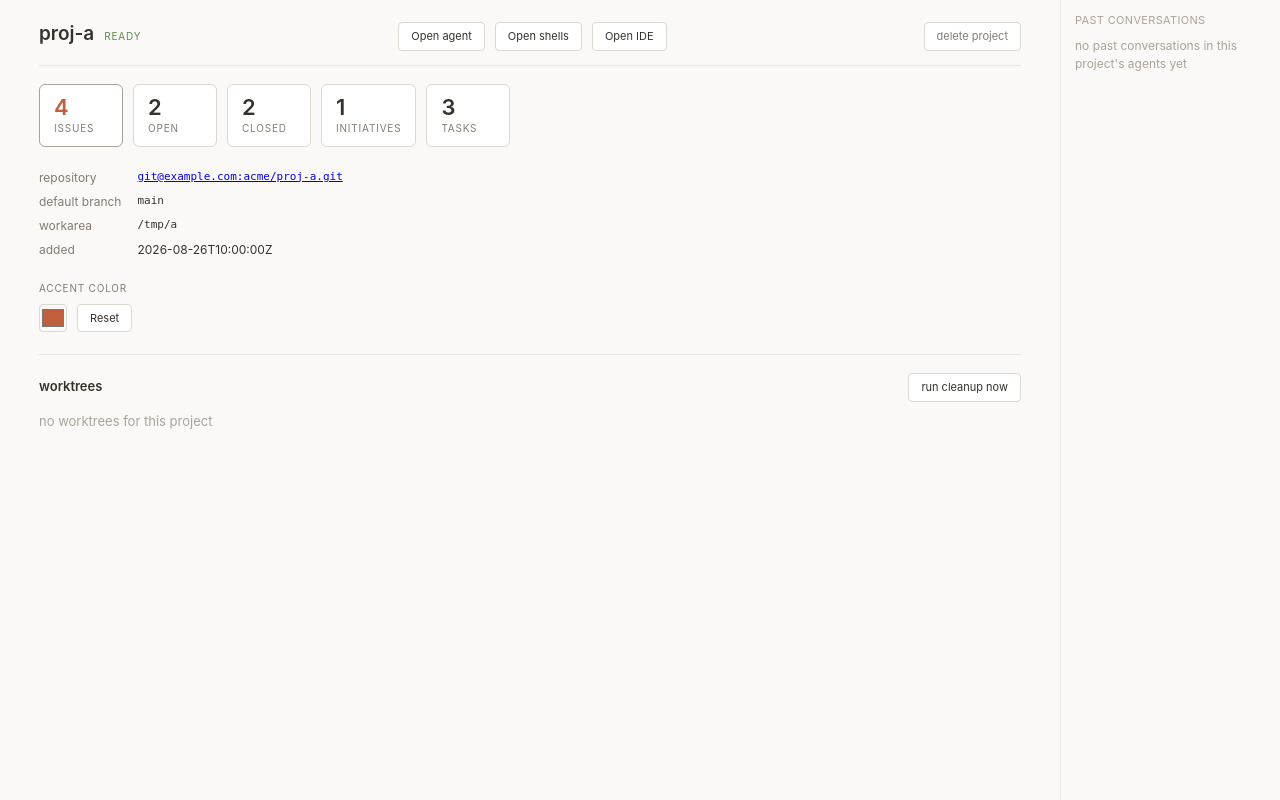
Test: ProjectSummaryComponent › shows an error and re-arms the button when minting a shell fails (#745)
Click the button with class "shells-button".
click(538, 36)  # box [495,22,582,50]
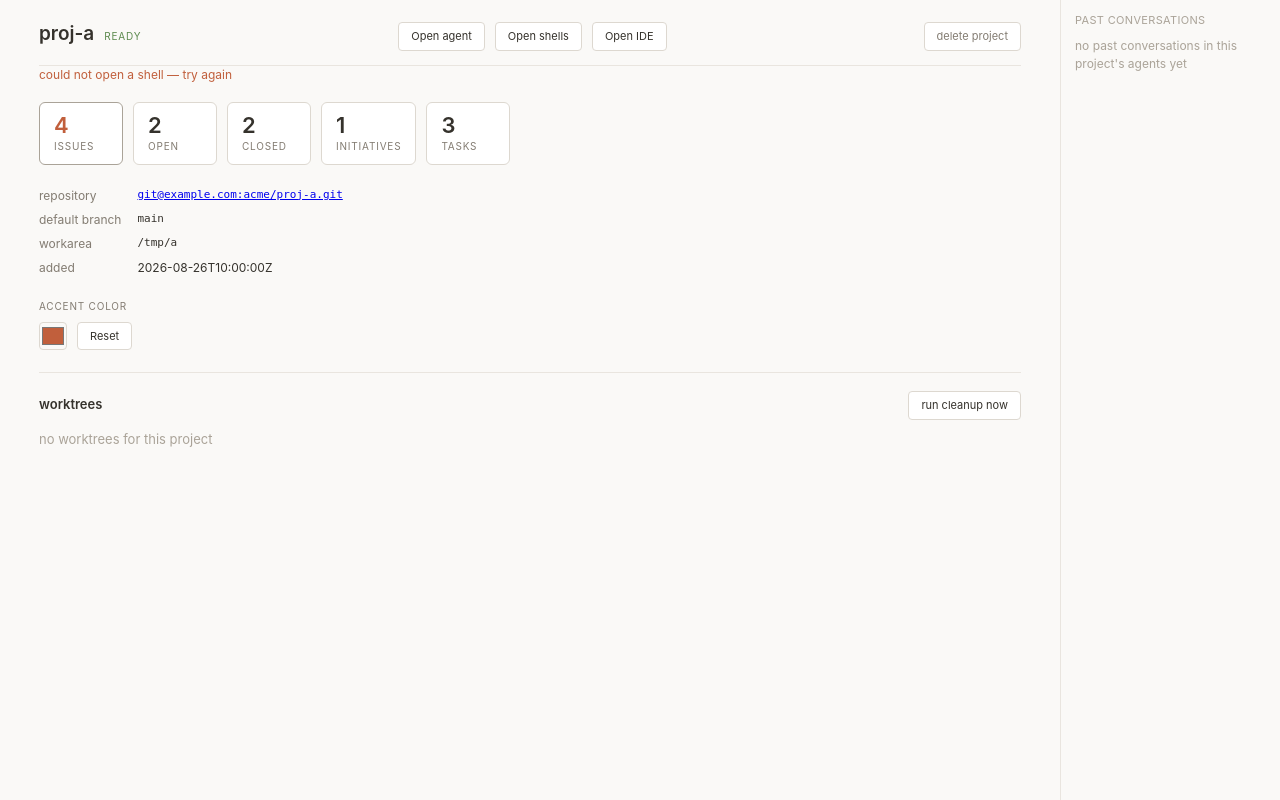
expect the text "could not open a shell" is shown: met, box [39,66,232,82]
